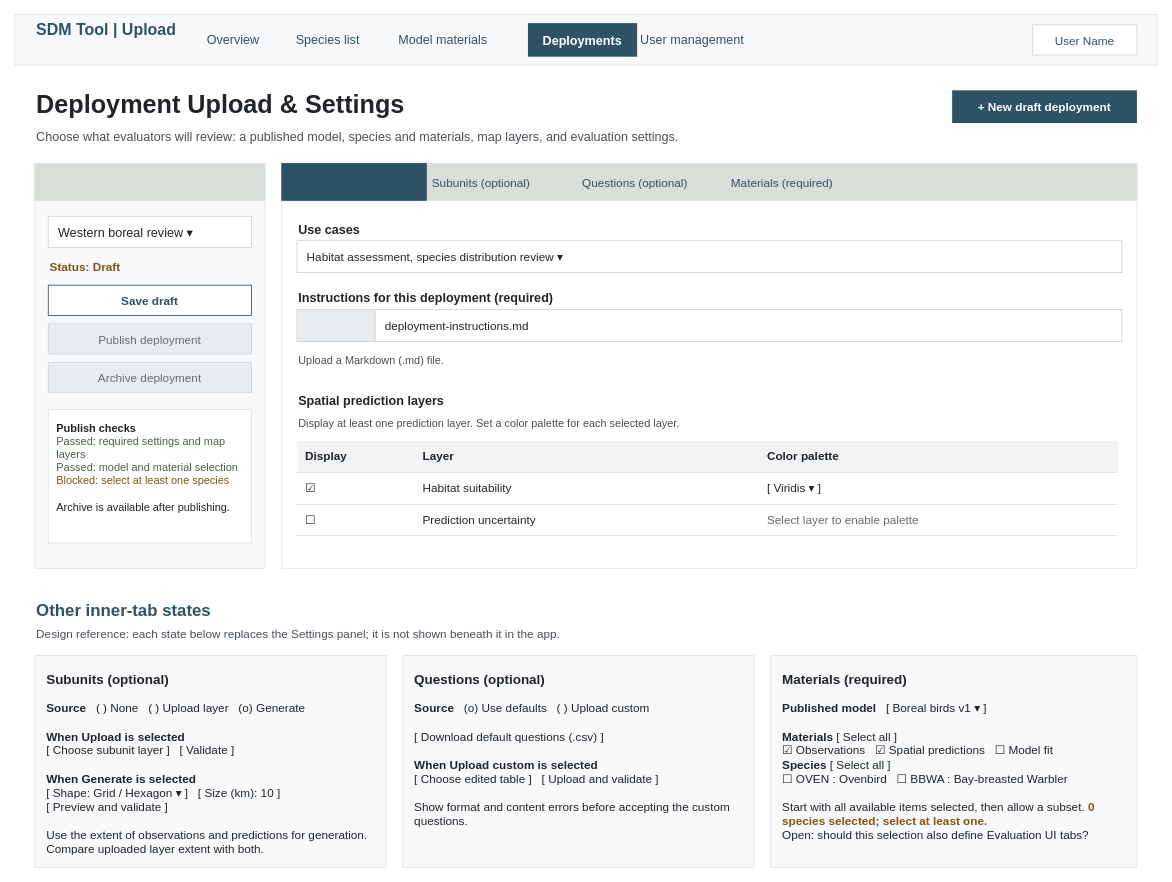
This 1172x882 diagram has some shape labels left out. Here are the shapes that lost their labels. From the top down, the box of each, then its label:
(34, 163, 265, 200): Current deployment
(281, 163, 426, 200): Settings (required)
(296, 309, 375, 341): Browse...
